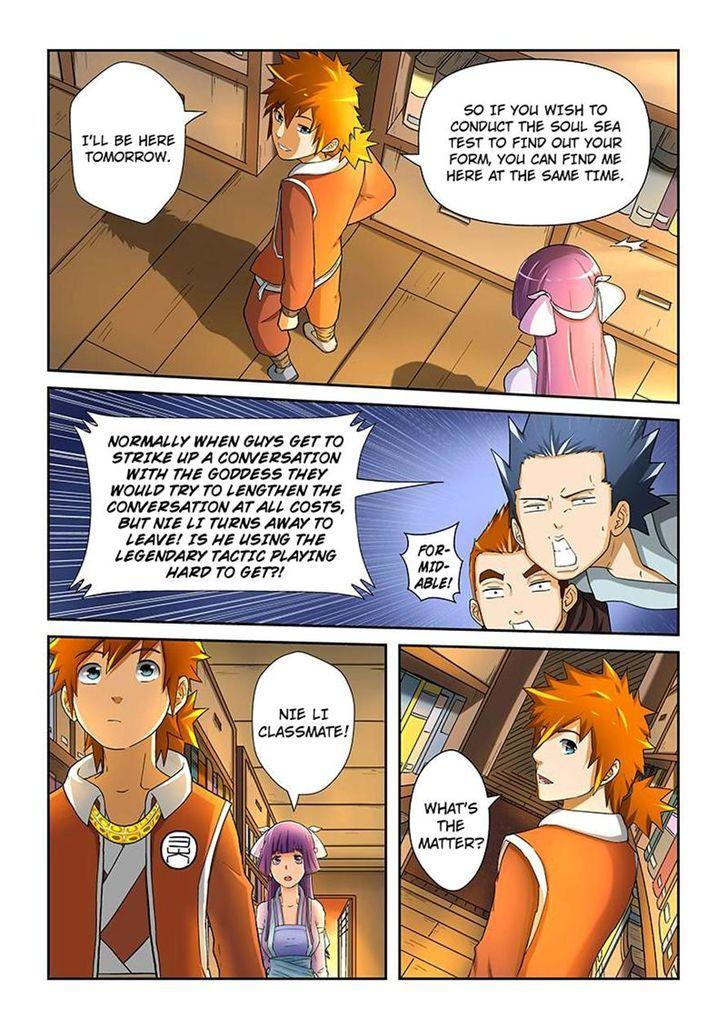Bubble: (68, 410, 379, 602), (415, 57, 653, 227), (68, 59, 189, 225), (251, 649, 356, 799), (408, 748, 493, 892), (399, 520, 465, 605)
